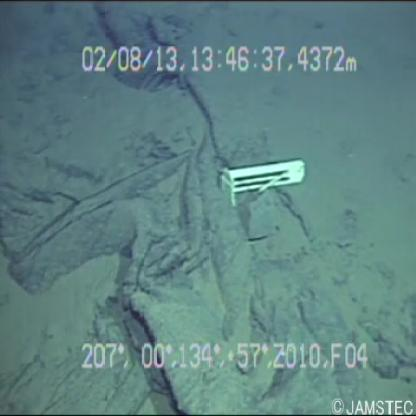Rác: (210, 132, 308, 204)
